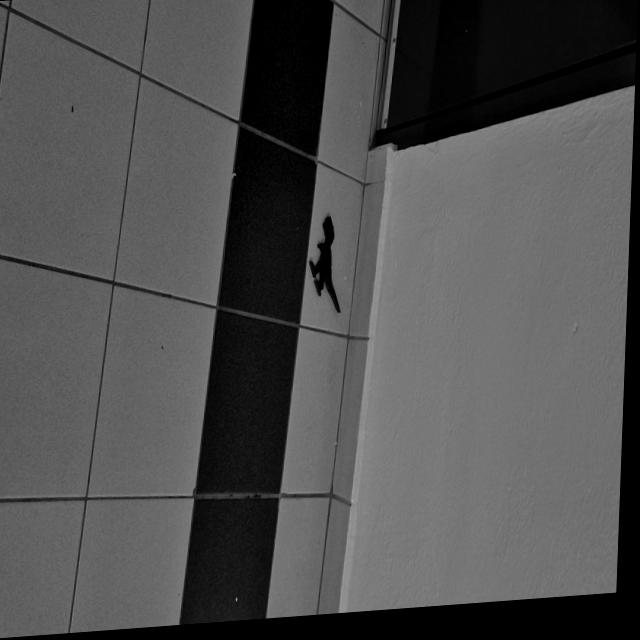dino: (307, 213, 345, 315)
